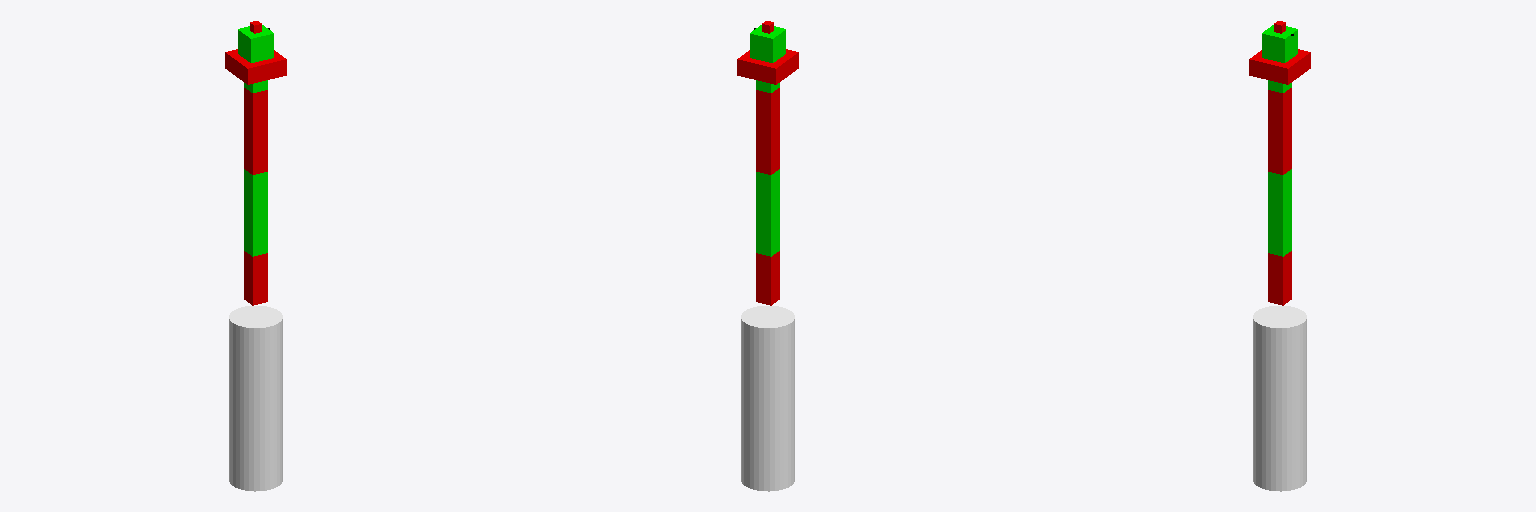
The robot description file, URDF, robot "simple_six_axis_robot":
<?xml version="1.0" ?>
<robot name="simple_six_axis_robot">
  <!-- ===================== base_box - link1 ==============================================-->
  <!-- base_box -->
  <link name="base_link">
    <!--見た目の定義-->
    <visual>
      <!--linkの原点からのオフセット-->
      <origin xyz="0 0 0.5" rpy="0 0 0"/>
      <geometry>
        <!--base_boxのサイズ（見た目）を指定-->
        <cylinder radius="0.15" length="1.0"/>
      </geometry>
      <!--色の指定-->
      <material name="white">
        <color rgba="1 1 1 1"/>
      </material>
    </visual>

    <!--衝突の定義（特段の理由がなければ、基本的にvisualタグと同じ設定でよい-->
    <collision>
      <!--linkの原点からのオフセット-->
      <origin xyz="0 0 0.5" rpy="0 0 0"/>
      <geometry>
        <!--base_boxのサイズ（衝突領域）を指定-->
        <cylinder radius="0.15" length="1.0"/>
      </geometry>
      <!--衝突に関する設定なので、materialタグはない-->
    </collision>

    <!--イナーシャ（慣性）に関する設定-->
    <inertial>
        <!--linkの原点からのオフセット-->
        <origin xyz="0 0 0" rpy="0 0 0" />
        <!--linkの重量-->
        <mass value="1" />
        <!--イナーシャ-->
        <inertia ixx="0.000034533333" 
            ixy="0"  ixz="0"
            iyx="0"  iyy="0.000034533333" 
            iyz="0"
            izx="0"  izy="0"  izz="0.0000648" />
    </inertial>
  </link>

  <!-- link1 -->
  <link name="link1">
    <!--見た目の定義-->
    <visual>
      <origin xyz="0 0 0.15" rpy="0 0 0"/>
      <geometry>
        <box size="0.1 0.1 0.3"/>
      </geometry>
      <material name="red">
        <color rgba="1 0 0 1"/>
      </material>
    </visual>
      
    <!--衝突の定義-->
    <collision>
      <origin xyz="0 0 0.15" rpy="0 0 0"/>
      <geometry>
        <box size="0.1 0.1 0.3"/>
      </geometry>
    </collision>

    <!--イナーシャの定義-->
    <inertial>
        <origin xyz="0 0 0" rpy="0 0 0" />
        <mass value="0.1" />
        <inertia ixx="0.000034533333" 
            ixy="0"  ixz="0"
            iyx="0"  iyy="0.000034533333" 
            iyz="0"
            izx="0"  izy="0"  izz="0.0000648" />
    </inertial>
  </link>

  <!-- joint1 （base_boxリンク と link1リンクをつなぐジョイント）-->
  <joint name="joint1" type="revolute">
  <!-- <joint name="joint1" type="continuous"> -->
    <!--親リンク-->
    <parent link="base_link"/>
    <!--子リンク-->
    <child link="link1"/>
    <!--親リンク原点⇔子リンク原点間の距離-->
    <origin xyz="0 0 1.1" rpy="0 0 0"/>
    <!-- <origin xyz="0 0 1.1" rpy="0 0 3.14"/> -->
    <!-- <origin xyz="0 0 0.9" rpy="0 0 0"/> -->
    <!-- <origin xyz="0 0 1.2" rpy="0 0 0"/> -->
    <!--jointの軸方向-->
    <axis xyz="0 0 1"/>
    <limit lower="-1.57" upper="1.57" effort="10" velocity="10"/>
    <!-- <limit lower="-3.14" upper="3.14" effort="10" velocity="10"/> -->
    <!-- <limit lower="0" upper="3.14" effort="10" velocity="10"/> -->
  </joint>
  <!-- ================================================================================== -->

  <!-- ===================== link1 - link2 ==============================================-->
  <!-- link2 -->
  <link name="link2">
    <!--見た目の定義-->
    <visual>
      <origin xyz="0 0.0 0.25" rpy="0 0 0"/>
      <geometry>
        <box size="0.1 0.1 0.5"/>
      </geometry>
      <material name="green">
        <color rgba="0 1 0 1"/>
      </material>
    </visual>

    <!--衝突の定義-->
    <collision>
      <origin xyz="0 0.0 0.25" rpy="0 0 0"/>
      <geometry>
        <box size="0.1 0.1 0.5"/>
      </geometry>
    </collision>

    <!--イナーシャの定義-->
    <inertial>
        <origin xyz="0 0 0" rpy="0 0 0" />
        <mass value="0.1" />
        <inertia ixx="0.000034533333" 
            ixy="0"  ixz="0"
            iyx="0"  iyy="0.000034533333" 
            iyz="0"
            izx="0"  izy="0"  izz="0.0000648" />
    </inertial>
  </link>

  <!-- joint2 （link1リンク と link2リンク をつなぐジョイント） -->
  <joint name="joint2" type="revolute">
  <!-- <joint name="joint2" type="continuous"> -->
    <parent link="link1"/>
    <child link="link2"/>
    <!-- <origin xyz="0 0.1 0.3" rpy="0 0 0"/> -->
    <origin xyz="0 0 0.3" rpy="0 0 0"/>
    <limit lower="-1.57" upper="1.57" effort="10" velocity="10"/>
    <!-- <limit lower="-3.14" upper="3.14" effort="10" velocity="10"/> -->
    <!-- <limit lower="-1.47" upper="1.47" effort="10" velocity="10"/> -->

    <axis xyz="0 1 0"/>
  </joint>
  <!-- ================================================================== -->

  <!-- ===================== link2 - link3 ==============================================-->
  <!-- link3 -->
  <link name="link3">
    <!--見た目の定義-->
    <visual>
      <origin xyz="0 0.0 0.25" rpy="0 0 0"/>
      <geometry>
        <box size="0.1 0.1 0.5"/>
      </geometry>
      <material name="red">
        <color rgba="1 0 0 1"/>
      </material>
    </visual>

    <!--衝突の定義-->
    <collision>
      <origin xyz="0 0.0 0.25" rpy="0 0 0"/>
      <geometry>
        <box size="0.1 0.1 0.5"/>
      </geometry>
    </collision>

    <!--イナーシャの定義-->
    <inertial>
        <origin xyz="0 0 0" rpy="0 0 0" />
        <mass value="0.1" />
        <inertia ixx="0.000034533333" 
            ixy="0"  ixz="0"
            iyx="0"  iyy="0.000034533333" 
            iyz="0"
            izx="0"  izy="0"  izz="0.0000648" />
    </inertial>
  </link>

  <!-- joint3 （link2リンク と link3リンク をつなぐジョイント） -->
  <joint name="joint3" type="revolute">
  <!-- <joint name="joint3" type="continuous"> -->
    <parent link="link2"/>
    <child link="link3"/>
    <!-- <origin xyz="0 0.1 0.5" rpy="0 0 0"/> -->
    <origin xyz="0 0 0.5" rpy="0 0 0"/>
    <axis xyz="0 1 0"/>
    <!-- <limit lower="-3.14" upper="3.14" effort="10" velocity="10"/> -->
    <limit lower="-1.57" upper="1.57" effort="10" velocity="10"/>
    <!-- <limit lower="-1.47" upper="1.47" effort="10" velocity="10"/> -->

  </joint>
  <!-- ================================================================== -->

  <!-- ===================== link3 - link4 ==============================================-->
  <!-- link4 -->
  <link name="link4">
    <!--見た目の定義-->
    <visual>
      <origin xyz="0 0.0 0.05" rpy="0 0 0"/>
      <geometry>
        <box size="0.1 0.1 0.1"/>
      </geometry>
      <material name="blue">
        <color rgba="0 1 0 1"/>
      </material>
    </visual>

    <!--衝突の定義-->
    <collision>
      <origin xyz="0 0.0 0.05" rpy="0 0 0"/>
      <geometry>
        <box size="0.1 0.1 0.1"/>
      </geometry>
    </collision>

    <!--イナーシャの定義-->
    <inertial>
        <origin xyz="0 0 0" rpy="0 0 0" />
        <mass value="0.1" />
        <inertia ixx="0.000034533333" 
            ixy="0"  ixz="0"
            iyx="0"  iyy="0.000034533333" 
            iyz="0"
            izx="0"  izy="0"  izz="0.0000648" />
    </inertial>
  </link>

  <!-- joint4 （link3リンク と link4リンク をつなぐジョイント） -->
  <joint name="joint4" type="revolute">
  <!-- <joint name="joint3" type="continuous"> -->
    <parent link="link3"/>
    <child link="link4"/>
    <origin xyz="0 0 0.5" rpy="0 0 0"/>
    <axis xyz="0 0 1"/>
    <!-- <limit lower="-3.14" upper="3.14" effort="10" velocity="10"/> -->
    <limit lower="-1.57" upper="1.57" effort="10" velocity="10"/>
    <!-- <limit lower="-1.47" upper="1.47" effort="10" velocity="10"/> -->

  </joint>
  <!-- ================================================================== -->


  <!-- ===================== link4 - link5 ==============================================-->
  <!-- link5 -->
  <link name="link5">
    <!--見た目の定義-->
    <visual>
      <origin xyz="0.0 0 0.05" rpy="0 0 0"/>
      <geometry>
        <box size="0.25 0.25 0.1"/>
      </geometry>
      <material name="red">
        <color rgba="1 0 0 1"/>
      </material>
    </visual>

    <!--衝突の定義-->
    <collision>
      <origin xyz="0.0 0 0.05" rpy="0 0 0"/>
      <geometry>
        <box size="0.25 0.25 0.1"/>
      </geometry>
    </collision>

    <!--イナーシャの定義-->
    <inertial>
        <origin xyz="0 0 0" rpy="0 0 0" />
        <mass value="0.1" />
        <inertia ixx="0.000034533333" 
            ixy="0"  ixz="0"
            iyx="0"  iyy="0.000034533333" 
            iyz="0"
            izx="0"  izy="0"  izz="0.0000648" />
    </inertial>
  </link>

  <!-- joint5 （link4リンク と link5リンク をつなぐジョイント） -->
  <joint name="joint5" type="revolute">
  <!-- <joint name="joint3" type="continuous"> -->
    <parent link="link4"/>
    <child link="link5"/>
    <!-- <origin xyz="0 0.175 0.25" rpy="0 0 0"/> -->
    <origin xyz="0 0 0.1" rpy="0 0 0"/>
    <axis xyz="0 1 0"/>
    <!-- <limit lower="-3.14" upper="3.14" effort="10" velocity="10"/> -->
    <limit lower="-1.57" upper="1.57" effort="10" velocity="10"/>
    <!-- <limit lower="-1.47" upper="1.47" effort="10" velocity="10"/> -->

  </joint>
  <!-- ================================================================== -->

  <!-- ===================== link5 - link6 ==============================================-->
  <!-- link6 -->
  <link name="link6">
    <!--見た目の定義-->
    <visual>
      <origin xyz="0 0.0 0.075" rpy="0 0 0"/>
      <geometry>
        <box size="0.15 0.15 0.15"/>
      </geometry>
      <material name="blue">
        <color rgba="0 1 0 1"/>
      </material>
    </visual>

    <!--衝突の定義-->
    <collision>
      <origin xyz="0 0.0 0.075" rpy="0 0 0"/>
      <geometry>
        <box size="0.15 0.15 0.15"/>
      </geometry>
    </collision>

    <!--イナーシャの定義-->
    <inertial>
        <origin xyz="0 0 0" rpy="0 0 0" />
        <mass value="0.1" />
        <inertia ixx="0.000034533333" 
            ixy="0"  ixz="0"
            iyx="0"  iyy="0.000034533333" 
            iyz="0"
            izx="0"  izy="0"  izz="0.0000648" />
    </inertial>
  </link>

  <!-- joint6 （link5リンク と link6リンク をつなぐジョイント） -->
  <joint name="joint6" type="revolute">
  <!-- <joint name="joint3" type="continuous"> -->
    <parent link="link5"/>
    <child link="link6"/>
    <origin xyz="0 0 0.1" rpy="0 0 0"/>
    <axis xyz="0 0 1"/>
    <limit lower="-3.14" upper="3.14" effort="10" velocity="10"/>
    <!-- <limit lower="-1.57" upper="1.57" effort="10" velocity="10"/> -->
    <!-- <limit lower="-1.47" upper="1.47" effort="10" velocity="10"/> -->

  </joint>
  <!-- ================================================================== -->


  <link name="camera_link">
    <!--見た目の定義-->
    <visual>
      <origin xyz="0.0 0.0 0.0" rpy="0 0 0"/>
      <geometry>
        <box size="0.01 0.01 0.01"/>
      </geometry>
      <material name="black">
        <color rgba="0 0 0 1"/>
      </material>
    </visual>

    <!--衝突の定義-->
    <collision>
      <origin xyz="0.0 0.0 0.0" rpy="0 0 0"/>
      <geometry>
        <box size="0.01 0.01 0.01"/>
      </geometry>
    </collision>

    <!--イナーシャの定義-->
    <inertial>
        <origin xyz="0 0 0" rpy="0 0 0" />
        <mass value="0.0001" />
        <inertia ixx="0.000034533333" 
            ixy="0"  ixz="0"
            iyx="0"  iyy="0.000034533333" 
            iyz="0"
            izx="0"  izy="0"  izz="0.0000648" />
    </inertial>
  </link>

  <joint name="camera_joint" type="fixed">
    <parent link="link6"/>
    <child link="camera_link"/>
    <origin xyz="0.08 0 0.145" rpy="0 0 0"/>
    <axis xyz="0 0 1"/>
  </joint>


  <!--pybulletでカメラの目標地点として設定する用の仮想的なlink-->
  <link name="target_position_vertual_link"/>

  <joint name="camera_target_joint" type="fixed">
    <parent link="camera_link"/>
    <child link="target_position_vertual_link"/>
    <origin xyz="0.0 0.0 0.01" rpy="0 0 0"/>
    <axis xyz="0 0 1"/>
  </joint>


  <!-- tip point -->
  <!-- <link name="tip_link"/>
    <joint name="tip_joint" type="fixed">
    <parent link="link6"/>
    <child link="tip_link"/>
    <origin xyz="0.0 0.0 0.15" rpy="0 0 0"/>
    <axis xyz="0 0 1"/>
  </joint> -->

  <!--force sensor link###############################################################-->
  <!-- force sensor link -->
  <link name="force_sensor_link">
    <!--見た目の定義-->
    <visual>
      <origin xyz="0 0.0 0.025" rpy="0 0 0"/>
      <geometry>
        <box size="0.05 0.05 0.05"/>
      </geometry>
      <material name="red">
        <color rgba="1 0 0 1"/>
      </material>
    </visual>

    <!--衝突の定義-->
    <collision>
      <origin xyz="0 0.0 0.025" rpy="0 0 0"/>
      <geometry>
        <box size="0.05 0.05 0.05"/>
      </geometry>
    </collision>

    <!--イナーシャの定義-->
    <inertial>
        <origin xyz="0 0 0" rpy="0 0 0" />
        <mass value="0.0001" />
        <inertia ixx="0.000034533333" 
            ixy="0"  ixz="0"
            iyx="0"  iyy="0.000034533333" 
            iyz="0"
            izx="0"  izy="0"  izz="0.0000648" />
    </inertial>
  </link>

  <joint name="force_sensor_joint" type="fixed">
    <parent link="link6"/>
    <child link="force_sensor_link"/>
    <origin xyz="0.0 0.0 0.15" rpy="0 0 0"/>
    <axis xyz="0 0 1"/>
  </joint>

</robot>

--- What the picture shows (computed from the rendered views, not written in the file) ---
Views: 3 orthographic renders of the robot side by side, from view 1: azimuth 30°, elevation 25°; view 2: azimuth 150°, elevation 25°; view 3: azimuth 330°, elevation 25°.
Robot: simple_six_axis_robot — 10 links, 9 joints (6 revolute, 3 fixed); root link base_link; default pose: every joint at zero.
Visible links, largest first — view 1: base_link, link3, link2, link5, link1, link6; view 2: base_link, link3, link2, link5, link1, link6; view 3: base_link, link3, link2, link5, link1, link6.
Boxes of the visible links, x1,y1,x2,y2 form: base_link: (229,306,282,491); link3: (244,88,267,174); link2: (244,169,267,256); link5: (225,49,286,84); link1: (244,251,267,305); link6: (238,25,273,62); base_link: (741,306,794,491); link3: (756,88,779,174); link2: (756,169,779,256); link5: (737,49,798,84); link1: (756,251,779,305); link6: (750,25,785,62); base_link: (1253,306,1306,491); link3: (1268,88,1291,174); link2: (1268,169,1291,256); link5: (1249,49,1310,84); link1: (1268,251,1291,305); link6: (1262,25,1297,62).
Size in the robot's own frame: 0.3 by 0.3 by 2.8 metres.
Geometry: primitives only (box / cylinder / sphere), no mesh files.
